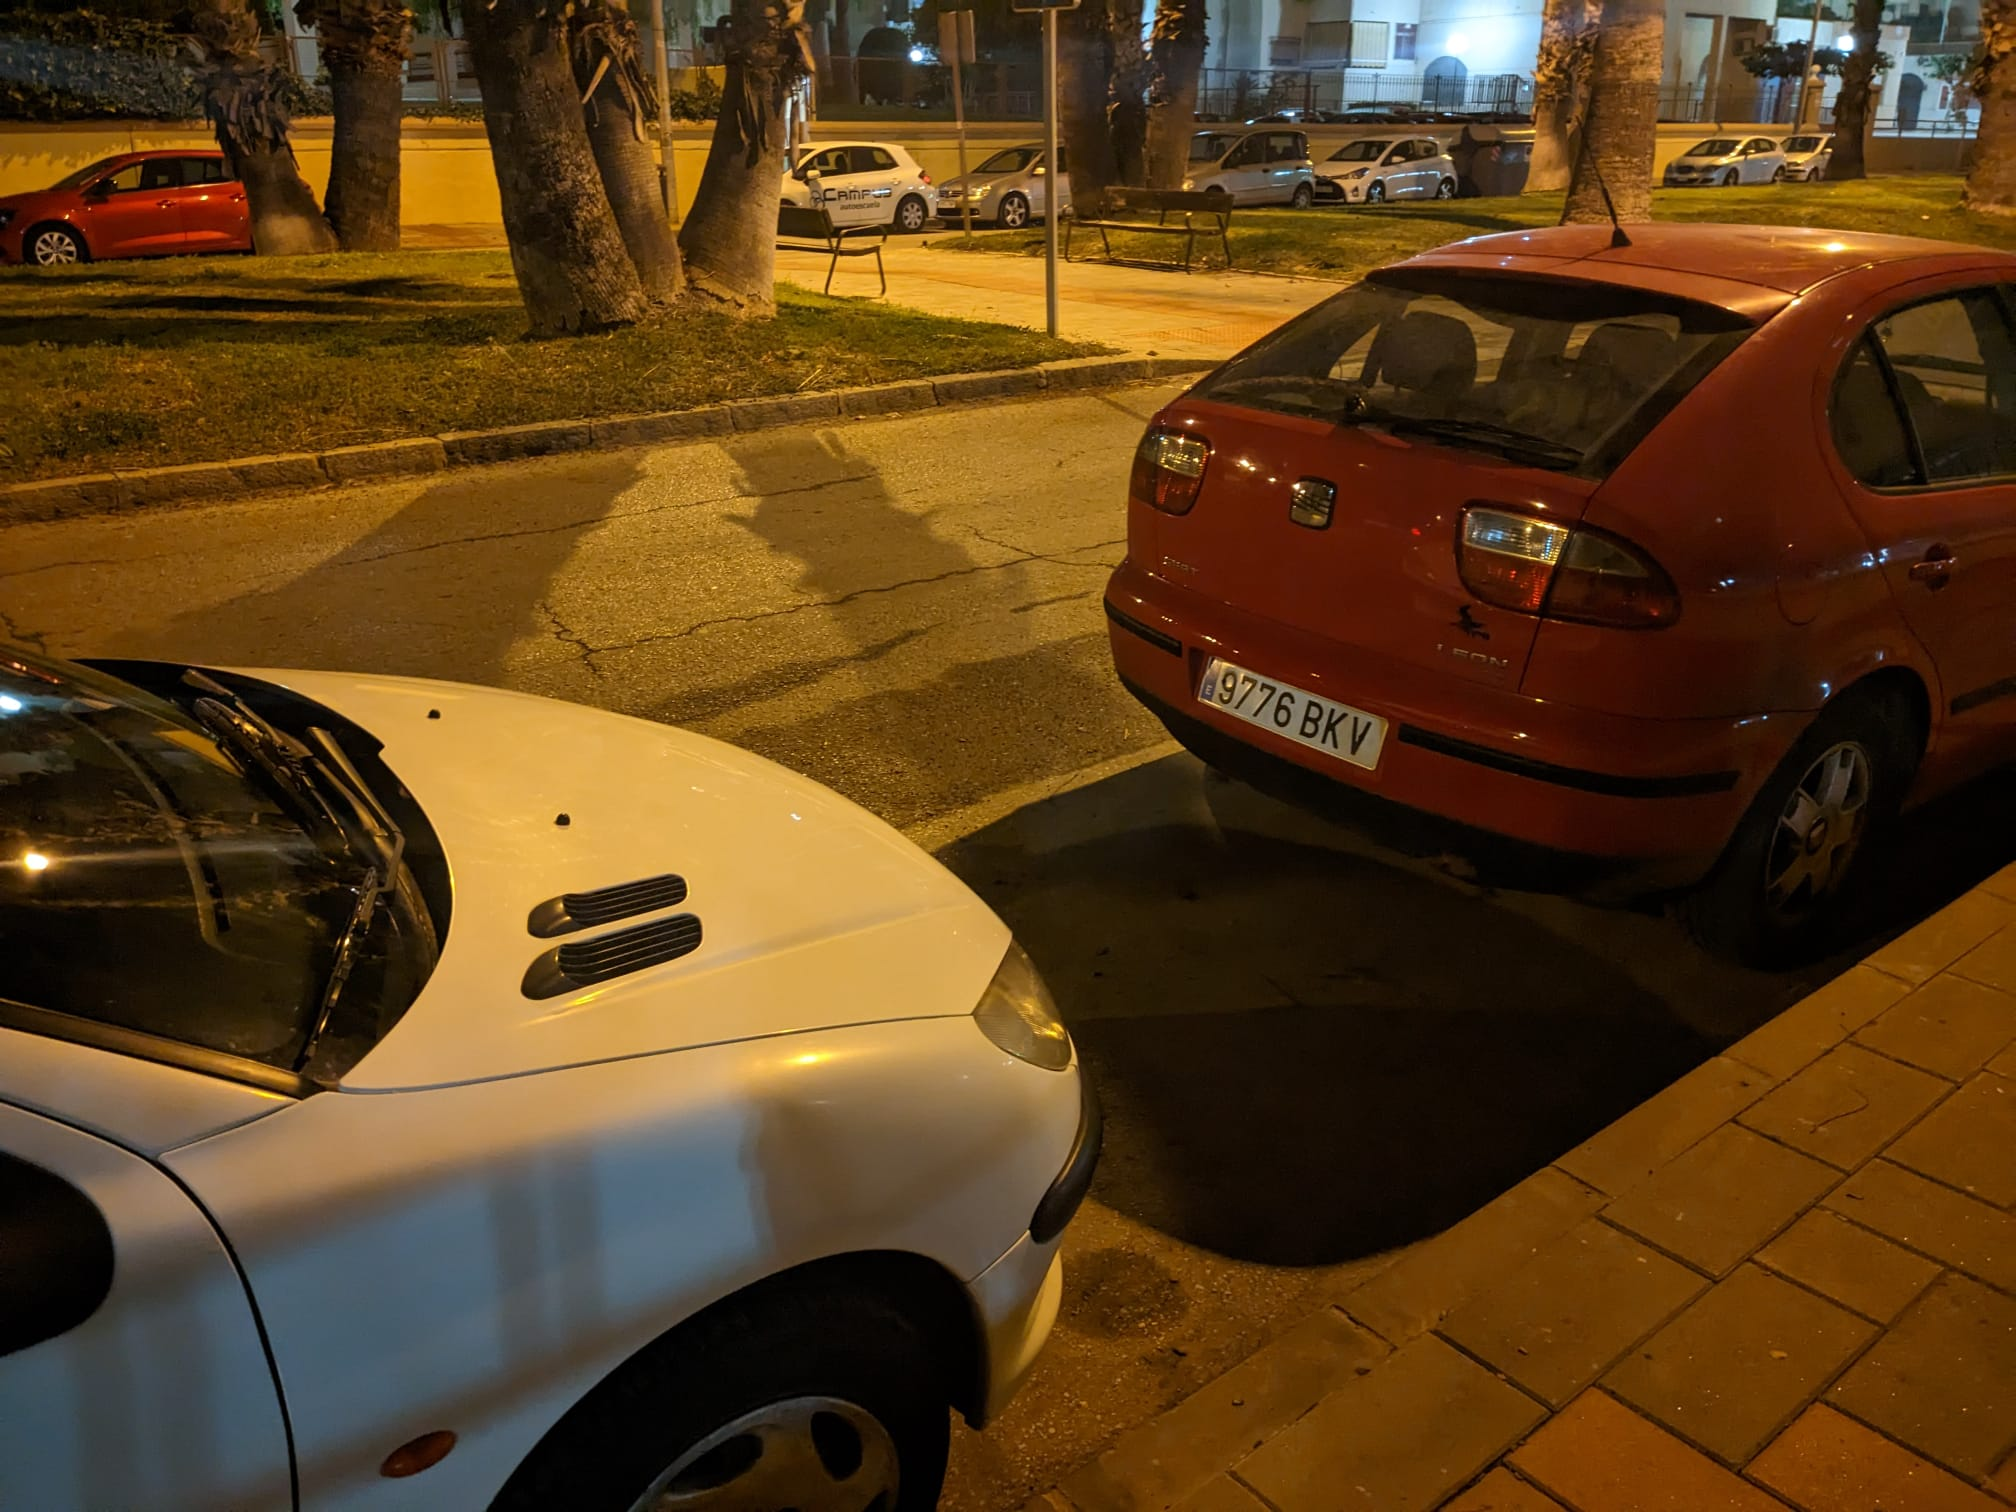car: (0, 550, 1137, 1506), (1108, 205, 2014, 877), (8, 141, 267, 257), (757, 129, 940, 245), (1183, 116, 1316, 219), (937, 133, 1073, 233), (1318, 127, 1464, 208), (1659, 125, 1779, 200), (1781, 122, 1838, 192)
